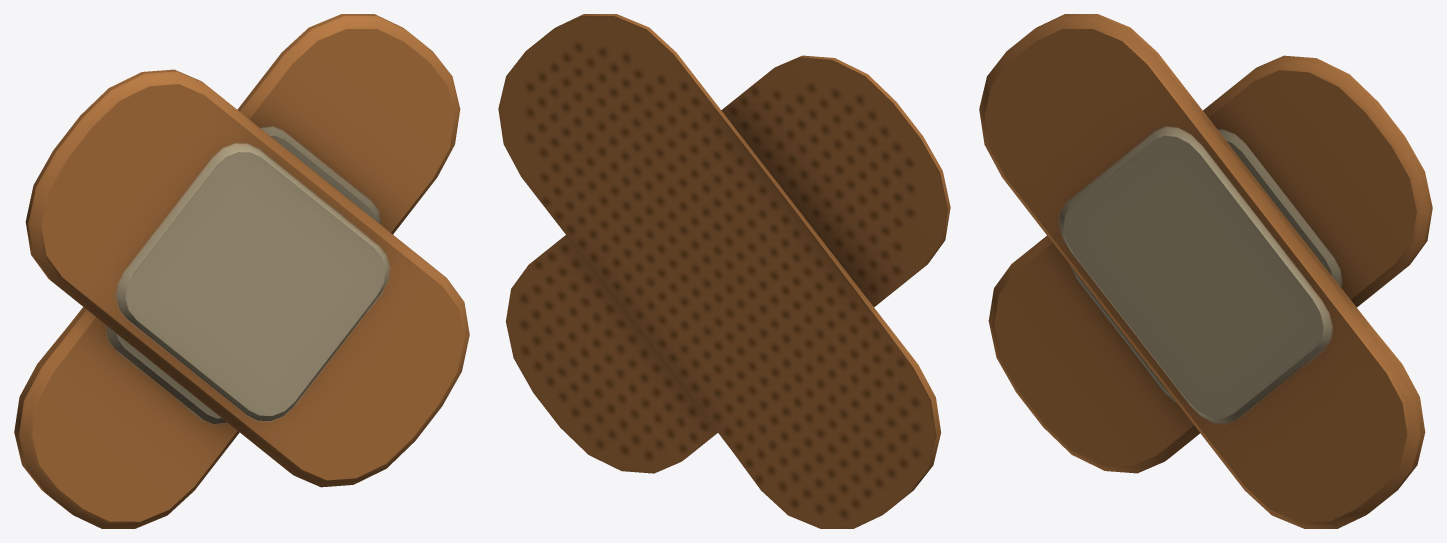
The model's file is bandaids_brown.fbx.
3 views of the same model, side by side, from view 1: azimuth 30°, elevation 25°; view 2: azimuth 150°, elevation 25°; view 3: azimuth 330°, elevation 25° (orthographic).
Visible parts, largest first — view 1: bandaids_brown; view 2: bandaids_brown; view 3: bandaids_brown.
Part boxes in pixels (bbox=[...]): bandaids_brown: bbox=[14, 14, 469, 528]; bandaids_brown: bbox=[498, 14, 950, 528]; bandaids_brown: bbox=[979, 14, 1432, 528].
Bounding box in the file's own units: 0.6516 × 0.6516 × 0.0524.
